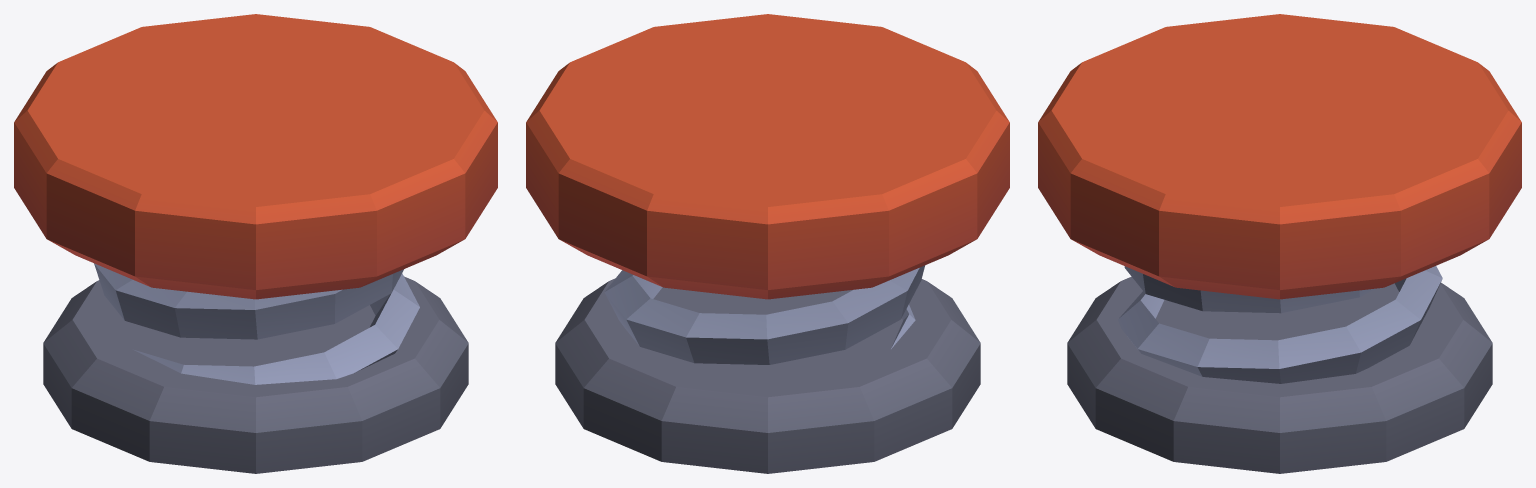
The model's file is spring.glb.
The picture shows the model from 3 angles, left to right: view 1: azimuth 30°, elevation 25°; view 2: azimuth 150°, elevation 25°; view 3: azimuth 270°, elevation 25°; orthographic projection.
Visible parts, largest first — view 1: geometry_0; view 2: geometry_0; view 3: geometry_0.
Boxes of the visible parts, x1=… form: geometry_0: x1=14, y1=14, x2=497, y2=473; geometry_0: x1=526, y1=14, x2=1009, y2=473; geometry_0: x1=1038, y1=14, x2=1521, y2=473.
Size of the model in its own units: 0.85 by 0.5303 by 0.85.
